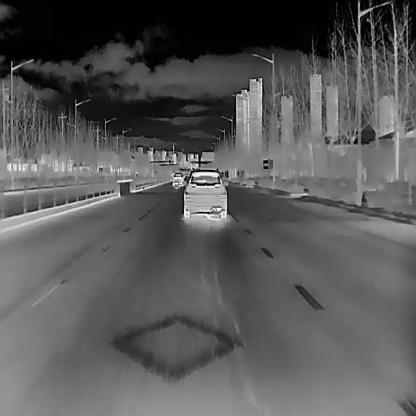car: (182, 169, 229, 217), (170, 172, 184, 186)
